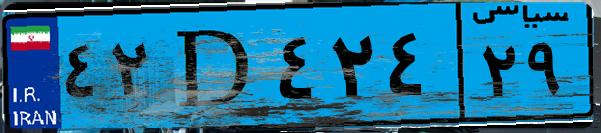2: (330, 28, 385, 110), (475, 38, 525, 113), (110, 28, 158, 98)
4: (270, 28, 330, 110), (385, 28, 445, 110), (57, 26, 110, 100)
9: (525, 38, 570, 115)
D: (158, 12, 270, 120)
